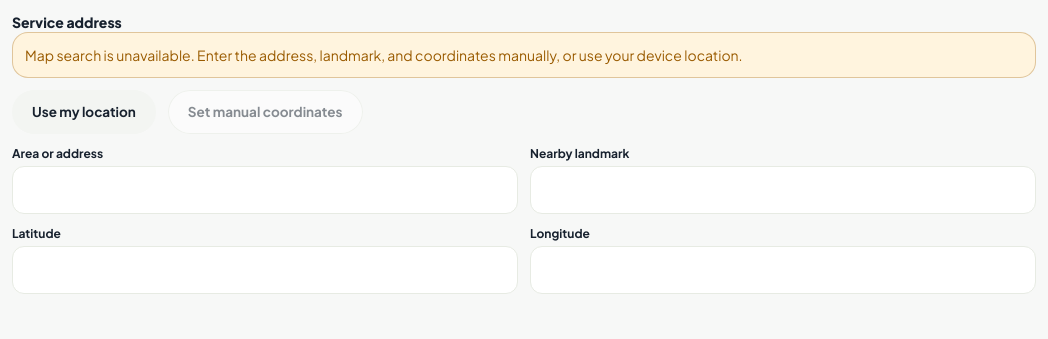
Scenario: Use my location › asks again for a coarse fix when the precise one fails, as on a phone set to share an approximate location
Click the button "Use my location".
click(84, 112)  # box 12,90 -> 156,134
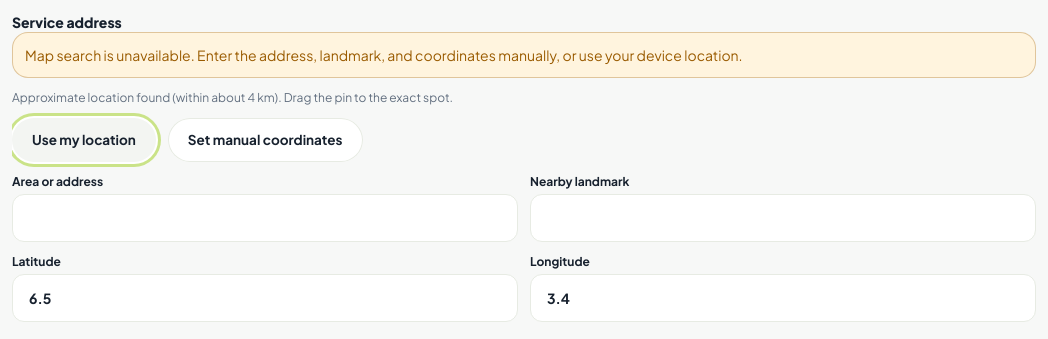
Expected: the text "Approximate location found (within about 4 km). Drag the pin" is shown, 12,90 -> 453,105
